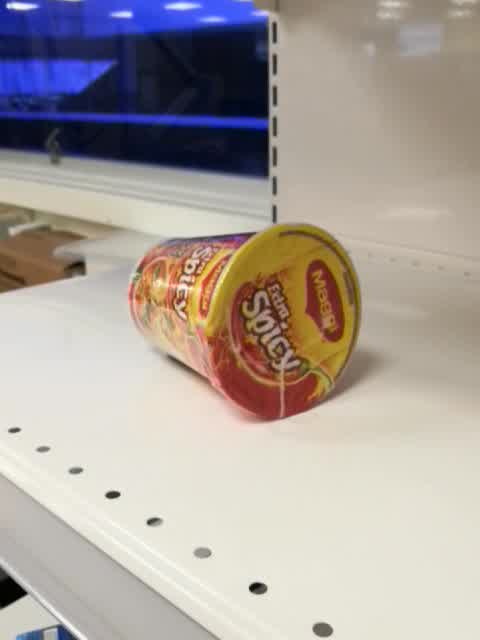maggi: (127, 220, 363, 422)
